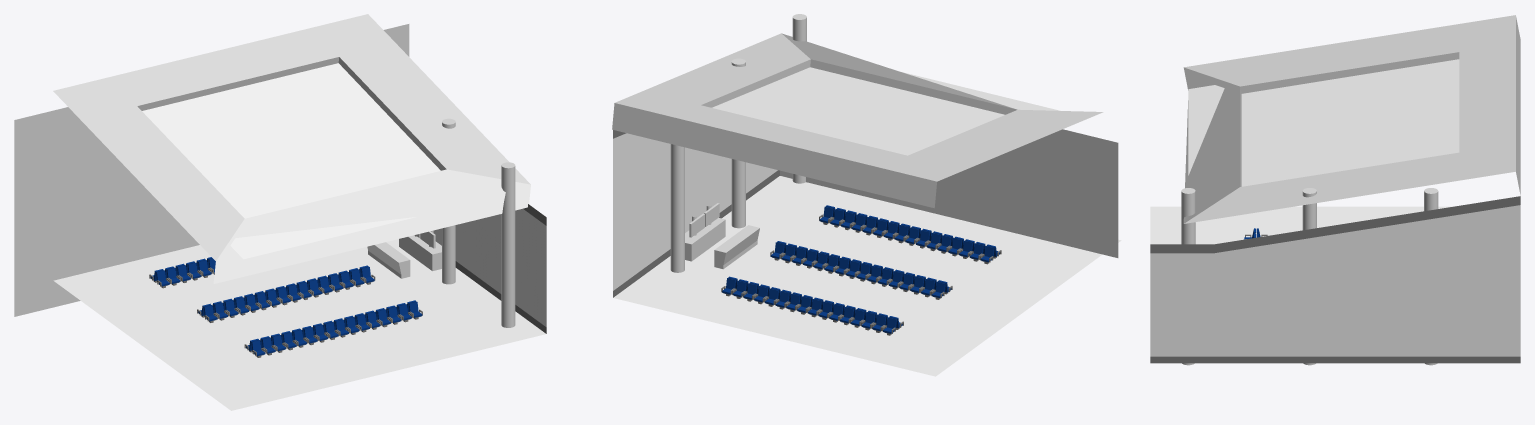
Rendered from luggage_select_scene.glb.
3 views of the same model, side by side, from view 1: azimuth 30°, elevation 25°; view 2: azimuth 150°, elevation 25°; view 3: azimuth 270°, elevation 25° (orthographic). The views are drawn at different scales.
Visible parts, largest first — view 1: Floor and Window, Ceiling, Skylight, Front Wall, Chairs, Columns, Gate Desk; view 2: Floor and Window, Ceiling, Back Wall, Skylight, Chairs, Columns, Gate Desk; view 3: Floor and Window, Ceiling, Skylight, Columns.
Boxes of the visible parts, x1=… form: Floor and Window: x1=53, y1=204, x2=546, y2=410; Ceiling: x1=53, y1=14, x2=530, y2=283; Skylight: x1=142, y1=63, x2=440, y2=259; Front Wall: x1=14, y1=24, x2=409, y2=316; Chairs: x1=149, y1=257, x2=422, y2=357; Columns: x1=442, y1=118, x2=515, y2=327; Gate Desk: x1=367, y1=230, x2=441, y2=278; Floor and Window: x1=613, y1=130, x2=1121, y2=376; Ceiling: x1=612, y1=33, x2=1103, y2=208; Back Wall: x1=780, y1=129, x2=1118, y2=257; Skylight: x1=712, y1=67, x2=1060, y2=155; Chairs: x1=721, y1=205, x2=1001, y2=335; Columns: x1=670, y1=14, x2=806, y2=272; Gate Desk: x1=685, y1=203, x2=759, y2=269; Floor and Window: x1=1150, y1=196, x2=1520, y2=363; Ceiling: x1=1183, y1=15, x2=1520, y2=223; Skylight: x1=1188, y1=59, x2=1459, y2=186; Columns: x1=1181, y1=188, x2=1438, y2=365.
Bounding box in the file's own units: 49.36 × 25.73 × 39.36.
